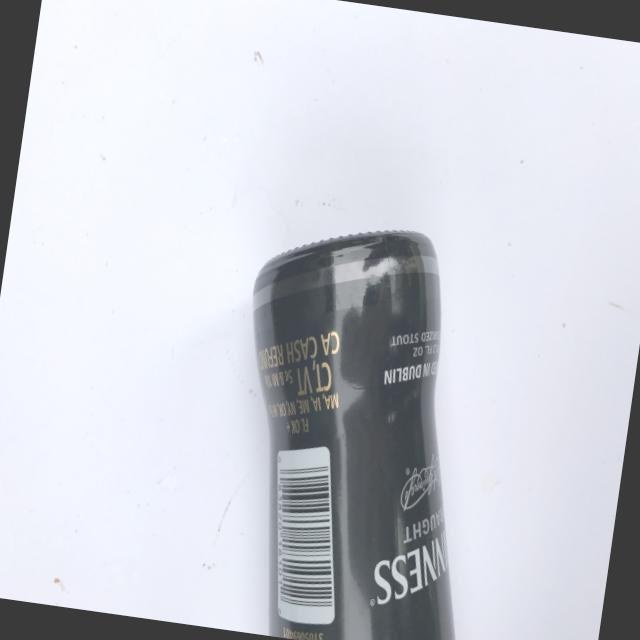Glass: (192, 200, 515, 640)
